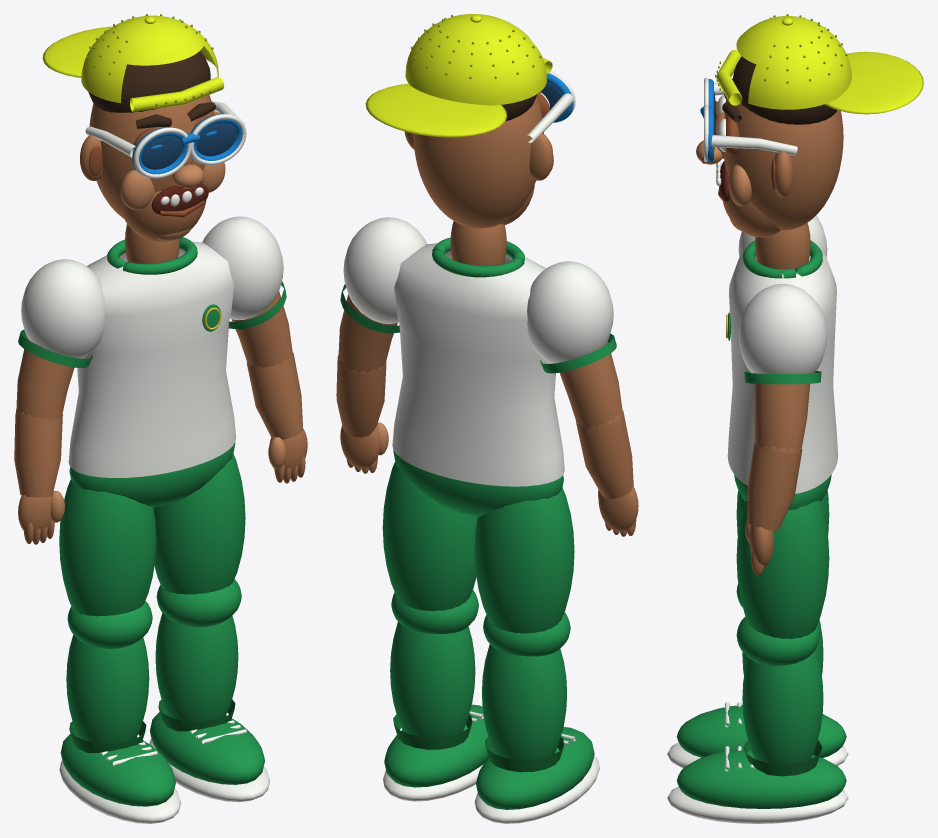
Rendered from lazo-prototype.glb.
The picture shows the model from 3 angles, left to right: view 1: azimuth 30°, elevation 25°; view 2: azimuth 150°, elevation 25°; view 3: azimuth 270°, elevation 25°; orthographic projection. The views are drawn at different scales.
Parts seen in each view (by area): view 1: white_jersey, left_upper_trouser, right_upper_trouser, left_lower_trouser, right_lower_trouser, left_sleeve, backwards_cap, left_sneaker, right_sneaker, right_sleeve, head, hips (+31 smaller); view 2: white_jersey, left_upper_trouser, backwards_cap, head, right_upper_trouser, right_lower_trouser, left_lower_trouser, left_sleeve, right_sleeve, backwards_brim, left_sneaker, right_sneaker (+19 smaller); view 3: white_jersey, right_upper_trouser, head, backwards_cap, right_lower_trouser, right_sneaker, right_sleeve, backwards_brim, right_forearm, left_sneaker, right_upper_arm, right_sole (+15 smaller).
Part boxes in pixels (x1=…): white_jersey: x1=68, y1=241, x2=235, y2=477; left_upper_trouser: x1=59, y1=479, x2=156, y2=616; right_upper_trouser: x1=153, y1=454, x2=245, y2=594; left_lower_trouser: x1=66, y1=634, x2=149, y2=743; right_lower_trouser: x1=155, y1=613, x2=238, y2=721; left_sleeve: x1=21, y1=259, x2=105, y2=358; backwards_cap: x1=81, y1=15, x2=218, y2=103; left_sneaker: x1=60, y1=734, x2=175, y2=806; right_sneaker: x1=150, y1=712, x2=264, y2=784; right_sleeve: x1=202, y1=216, x2=283, y2=319; head: x1=89, y1=95, x2=214, y2=218; hips: x1=69, y1=442, x2=235, y2=507; white_jersey: x1=392, y1=243, x2=564, y2=486; left_upper_trouser: x1=474, y1=488, x2=574, y2=633; backwards_cap: x1=405, y1=14, x2=546, y2=105; head: x1=413, y1=95, x2=543, y2=228; right_upper_trouser: x1=382, y1=461, x2=477, y2=611; right_lower_trouser: x1=390, y1=622, x2=475, y2=737; left_lower_trouser: x1=482, y1=644, x2=567, y2=759; left_sleeve: x1=527, y1=261, x2=613, y2=363; right_sleeve: x1=343, y1=217, x2=426, y2=323; backwards_brim: x1=365, y1=83, x2=507, y2=137; left_sneaker: x1=476, y1=727, x2=594, y2=809; right_sneaker: x1=384, y1=704, x2=493, y2=787; white_jersey: x1=727, y1=244, x2=837, y2=493; right_upper_trouser: x1=736, y1=500, x2=829, y2=638; head: x1=723, y1=99, x2=843, y2=230; backwards_cap: x1=736, y1=16, x2=851, y2=109; right_lower_trouser: x1=742, y1=650, x2=823, y2=763; right_sneaker: x1=676, y1=749, x2=846, y2=808; right_sleeve: x1=738, y1=284, x2=827, y2=373; backwards_brim: x1=824, y1=51, x2=923, y2=114; right_forearm: x1=747, y1=443, x2=802, y2=530; left_sneaker: x1=676, y1=705, x2=846, y2=757; right_upper_arm: x1=754, y1=383, x2=809, y2=450; right_sole: x1=667, y1=786, x2=848, y2=823.
Bounding box in the file's own units: 0.872 × 2.21 × 0.665.
